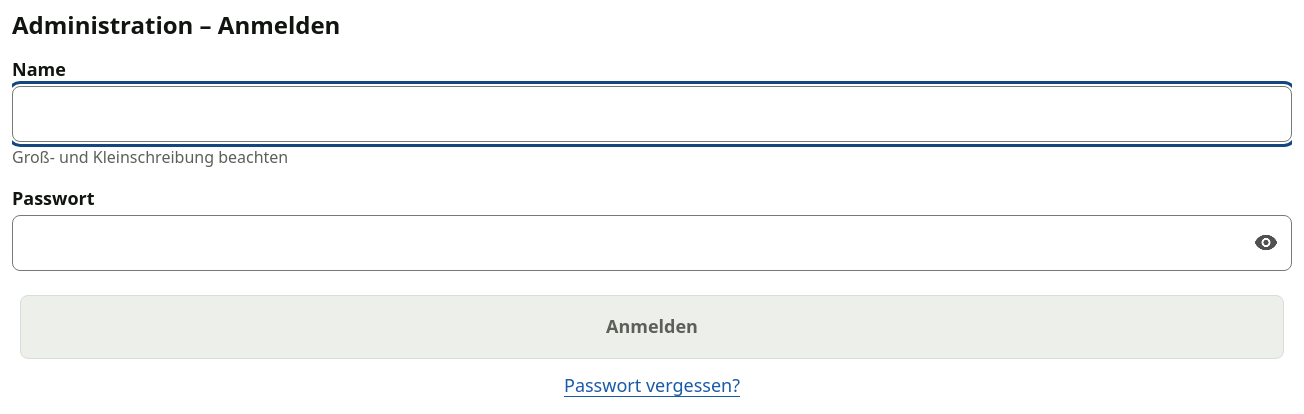
AdminAnmeldung › sperrt „Anmelden", bis Name und Passwort ausgefüllt sind
The image size is (1304, 414).
Expected: the button with test id "admin-absenden" is disabled, [20,295,1284,359]
Type "Beispieladmin" into the field with test id "admin-name" at (652, 114), box [12,86,1292,142]
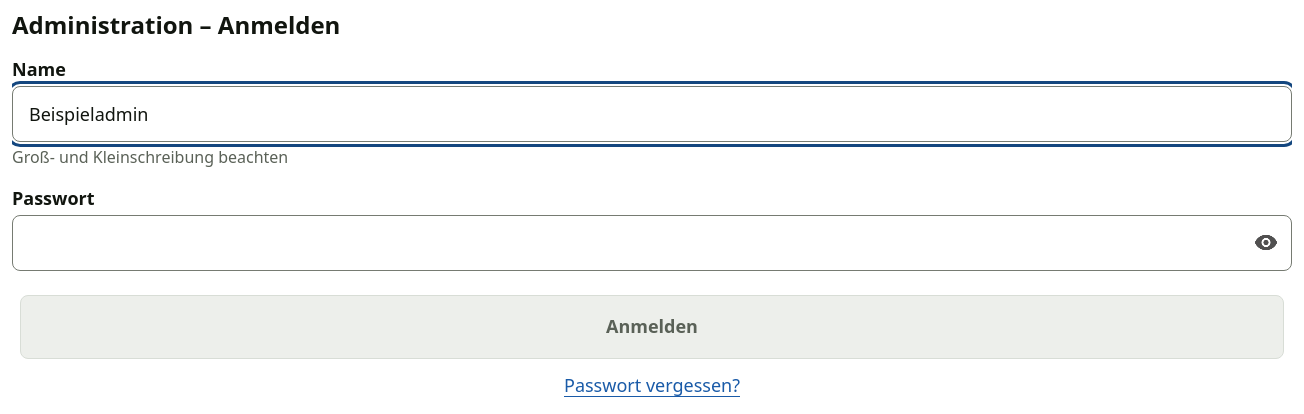
Expected: the button with test id "admin-absenden" is disabled, [20,295,1284,359]
Type "x" into the password field with test id "admin-passwort" at (652, 243), box [12,215,1292,271]
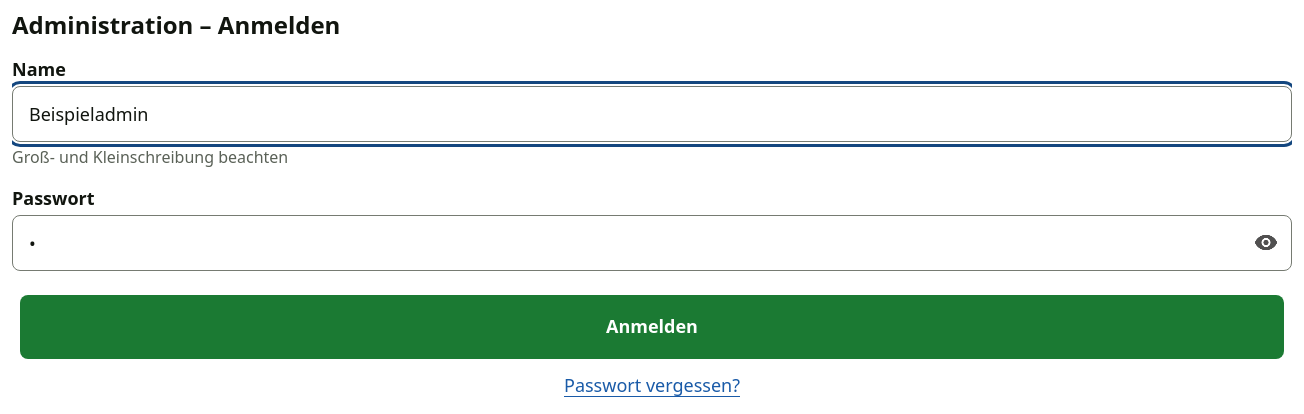
Expected: the button with test id "admin-absenden" is enabled, [20,295,1284,359]
